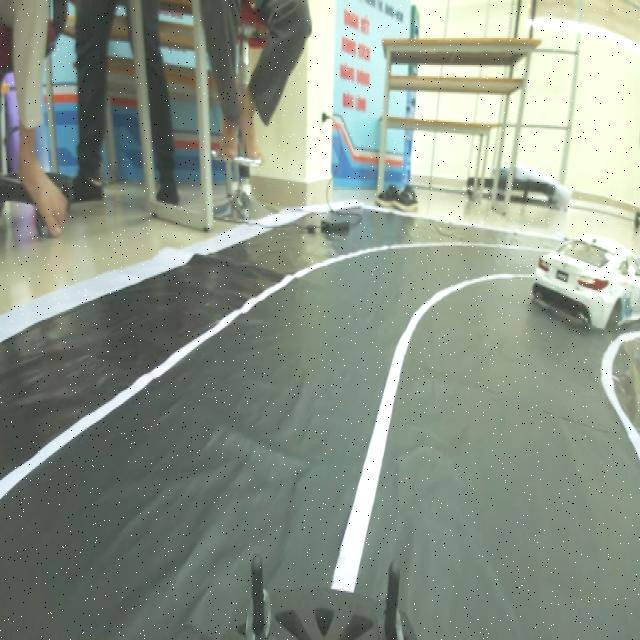car: (532, 215, 639, 338)
